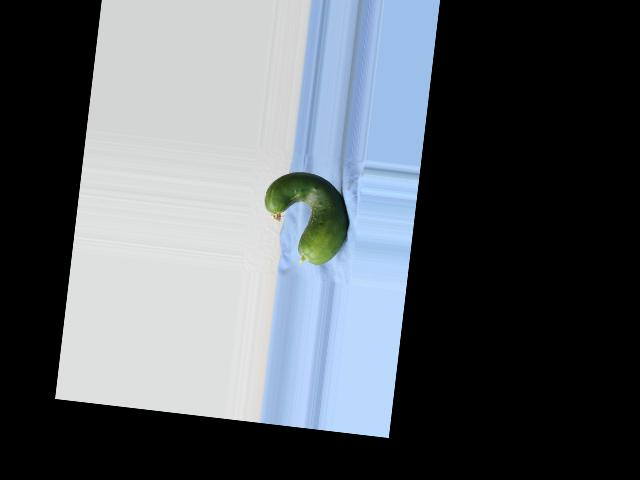cucumber: (257, 168, 353, 268)
